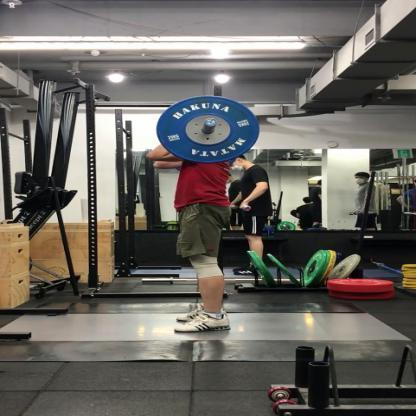barbell: (155, 95, 259, 163)
